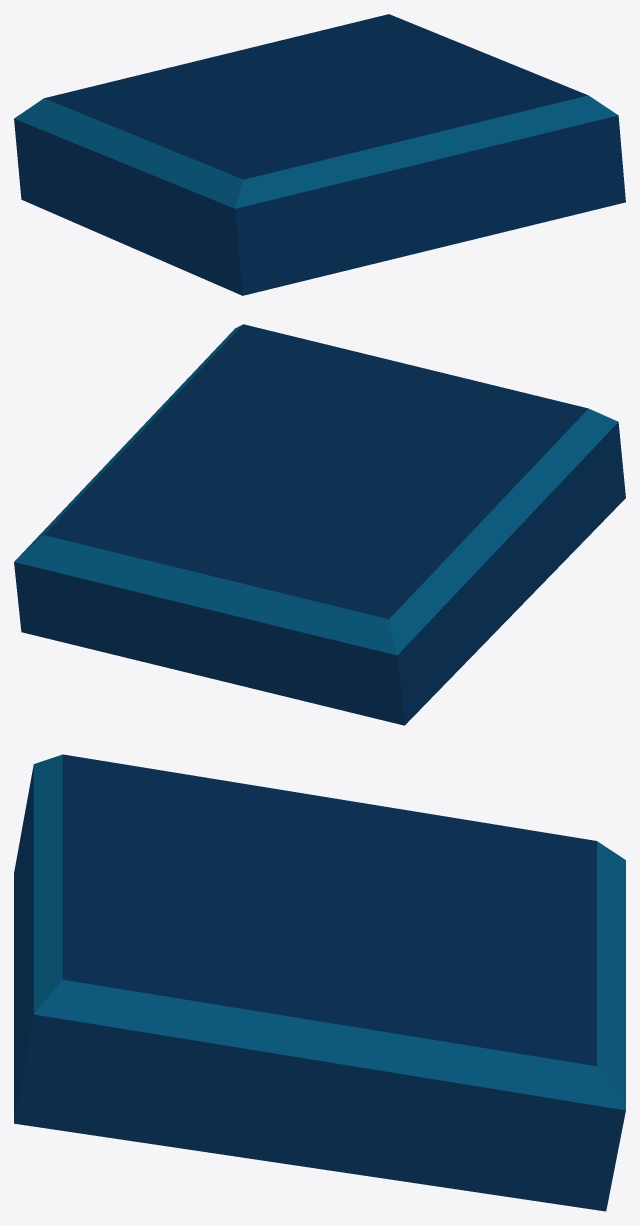
File: blue_button.glb
3 views of the same model, one above another, from view 1: azimuth 30°, elevation 25°; view 2: azimuth 150°, elevation 25°; view 3: azimuth 270°, elevation 25° (orthographic). The views are drawn at different scales.
Visible parts, largest first — view 1: Blue_Button; view 2: Blue_Button; view 3: Blue_Button.
Boxes of the visible parts, x1,y1,x2,y2 form: Blue_Button: (14, 14, 625, 295); Blue_Button: (14, 324, 625, 725); Blue_Button: (14, 754, 625, 1211).
Size of what is drawn, in the model's own units: 0.2721 by 0.1112 by 0.2812.
1 material, 1 textured.
